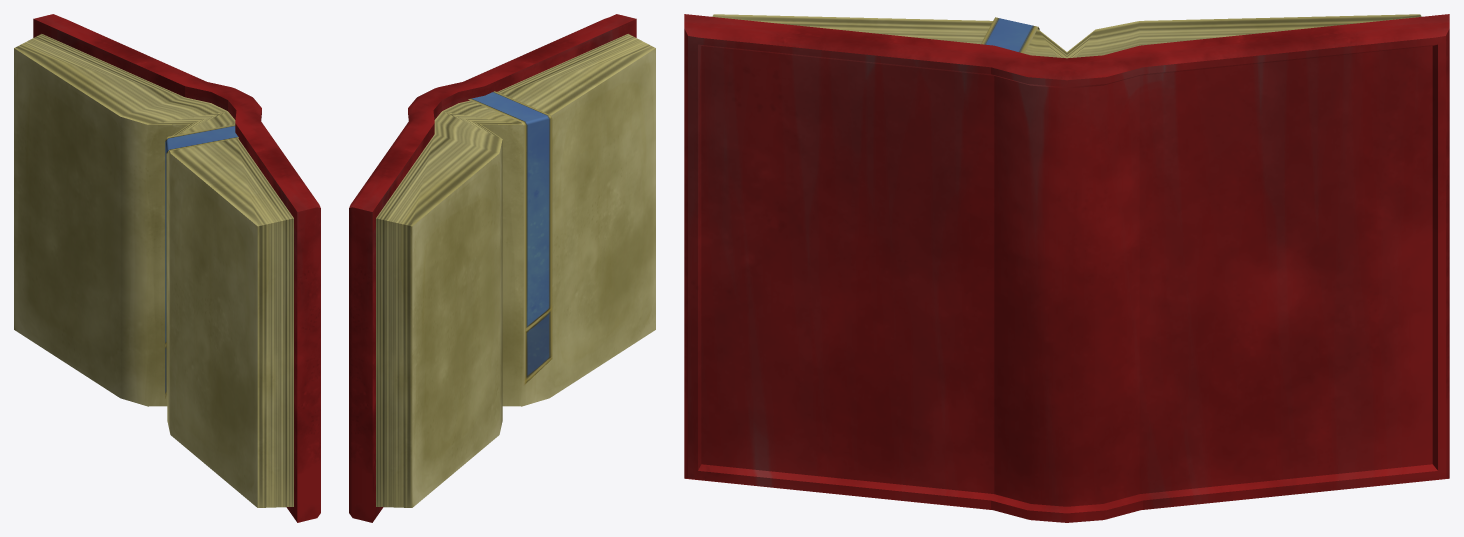
The model's file is BD_Book.fbx.
3 renders of one model, left to right at view 1: azimuth 30°, elevation 25°; view 2: azimuth 150°, elevation 25°; view 3: azimuth 270°, elevation 25°, orthographic. The views are drawn at different scales.
Parts seen in each view (by area): view 1: BD_Book; view 2: BD_Book; view 3: BD_Book.
Boxes of the visible parts, x1,y1,x2,y2 form: BD_Book: (14,14,320,522); BD_Book: (349,14,655,522); BD_Book: (684,14,1449,522).
Size of the model in its own units: 1.24 by 3.16 by 4.86.
